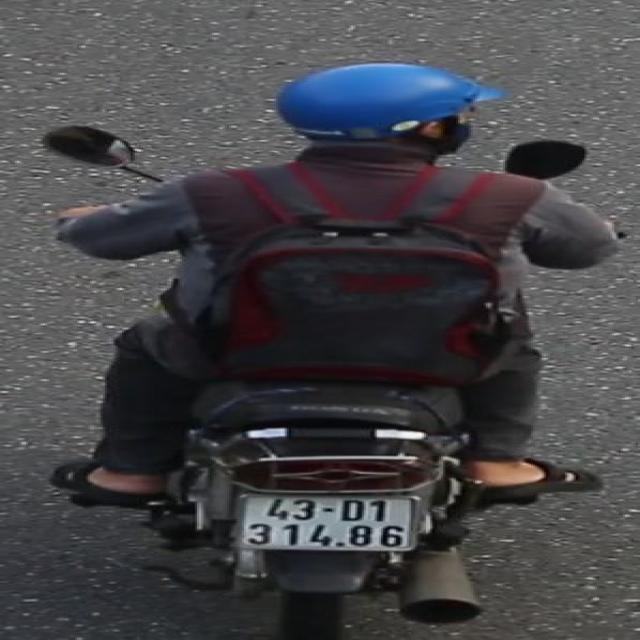LP: (228, 482, 429, 568)
helmet: (269, 56, 506, 164)
